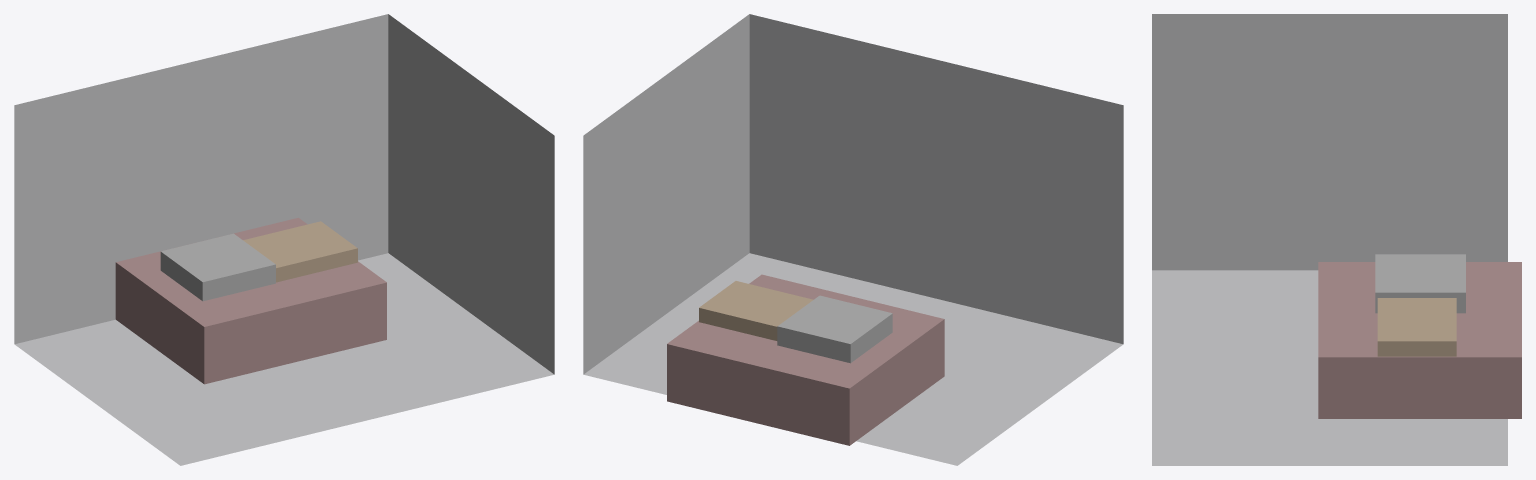
File: current_layout.glb
3 renders of one model, left to right at view 1: azimuth 30°, elevation 25°; view 2: azimuth 150°, elevation 25°; view 3: azimuth 270°, elevation 25°, orthographic. The views are drawn at different scales.
Visible parts, largest first — view 1: room, bed, dustbin, desk; view 2: room, bed, dustbin, desk; view 3: room, bed, desk, dustbin.
Part boxes in pixels (x1,y1,x2,y2): room: (14, 14, 554, 465); bed: (115, 217, 386, 384); dustbin: (160, 233, 275, 301); desk: (243, 221, 357, 282); room: (583, 14, 1123, 465); bed: (667, 274, 944, 445); dustbin: (777, 295, 892, 363); desk: (699, 281, 813, 340); room: (1152, 14, 1507, 465); bed: (1318, 262, 1521, 418); desk: (1377, 298, 1456, 356); dustbin: (1375, 254, 1465, 313).
Size of the model in its own units: 4.09 by 2.5 by 3.27.
